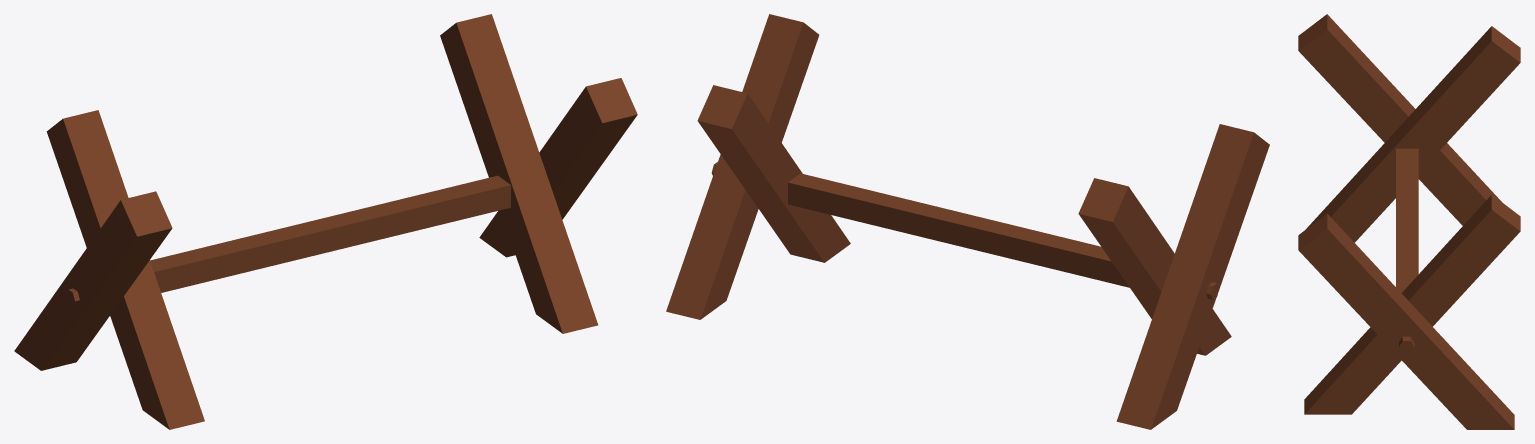
Rendered from prop_sqwing_wood.glb.
The picture shows the model from 3 angles, left to right: view 1: azimuth 30°, elevation 25°; view 2: azimuth 150°, elevation 25°; view 3: azimuth 270°, elevation 25°; orthographic projection. The views are drawn at different scales.
Visible parts, largest first — view 1: Props with out snow_Sqwing wood_0; view 2: Props with out snow_Sqwing wood_0; view 3: Props with out snow_Sqwing wood_0.
Boxes of the visible parts, x1,y1,x2,y2 form: Props with out snow_Sqwing wood_0: [14, 14, 637, 429]; Props with out snow_Sqwing wood_0: [666, 14, 1269, 429]; Props with out snow_Sqwing wood_0: [1298, 14, 1520, 429].
Size of the model in its own units: 5.99 by 2.59 by 2.55.
